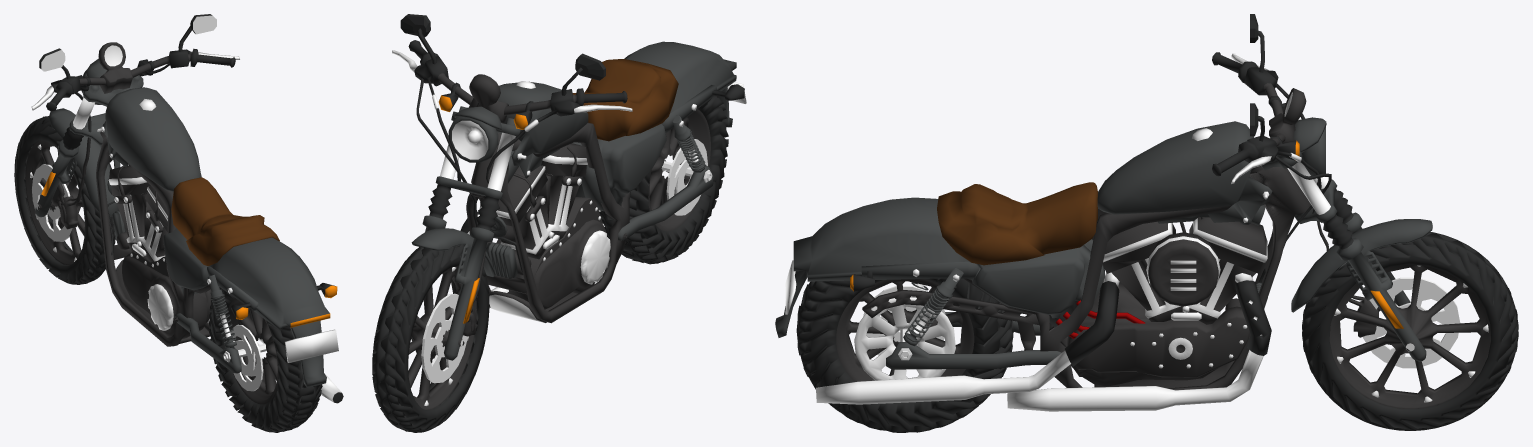
File: harley_davidson_iron_883.glb
3 renders of one model, left to right at view 1: azimuth 30°, elevation 25°; view 2: azimuth 150°, elevation 25°; view 3: azimuth 270°, elevation 25°, orthographic. The views are drawn at different scales.
Parts seen in each view (by area): view 1: guardabarros trasero, tanque, neumatico trasero, neumatico delantero, asiento, barras, Cube.002, motor, motor.001, tapas traseras, manubrio, rueda delantera (+11 smaller); view 2: neumatico delantero, barras, Cube.002, motor, motor.001, neumatico trasero, asiento, tapas traseras, manubrio, guardabarros trasero, tanque, rueda delantera (+14 smaller); view 3: mofles, neumatico delantero, motor, tanque, neumatico trasero, asiento, guardabarros trasero, motor.001, Cube.002, barras, rueda delantera, tapas traseras (+11 smaller).
Part boxes in pixels (bbox=[...]): guardabarros trasero: bbox=[209, 237, 330, 387]; tanque: bbox=[97, 87, 201, 191]; neumatico trasero: bbox=[209, 287, 322, 432]; neumatico delantero: bbox=[14, 116, 115, 284]; asiento: bbox=[171, 177, 279, 266]; barras: bbox=[35, 75, 143, 217]; Cube.002: bbox=[96, 121, 210, 346]; motor: bbox=[108, 164, 168, 267]; motor.001: bbox=[116, 232, 211, 338]; tapas traseras: bbox=[163, 228, 337, 319]; manubrio: bbox=[31, 48, 239, 132]; rueda delantera: bbox=[25, 140, 84, 264]; neumatico delantero: bbox=[372, 244, 489, 432]; barras: bbox=[411, 106, 520, 360]; Cube.002: bbox=[466, 122, 630, 323]; motor: bbox=[478, 143, 604, 261]; motor.001: bbox=[487, 197, 610, 309]; neumatico trasero: bbox=[599, 96, 728, 264]; asiento: bbox=[572, 59, 678, 141]; tapas traseras: bbox=[572, 84, 744, 211]; manubrio: bbox=[392, 40, 632, 184]; guardabarros trasero: bbox=[624, 41, 736, 127]; tanque: bbox=[497, 81, 588, 183]; rueda delantera: bbox=[408, 266, 476, 409]; mofles: bbox=[816, 272, 1271, 411]; neumatico delantero: bbox=[1302, 232, 1518, 430]; motor: bbox=[1102, 216, 1267, 368]; tanque: bbox=[1097, 121, 1272, 225]; neumatico trasero: bbox=[796, 278, 1013, 432]; asiento: bbox=[937, 182, 1097, 265]; guardabarros trasero: bbox=[775, 197, 971, 337]; motor.001: bbox=[1067, 281, 1249, 386]; Cube.002: bbox=[964, 166, 1310, 390]; barras: bbox=[1261, 151, 1432, 361]; rueda delantera: bbox=[1329, 264, 1490, 408]; tapas traseras: bbox=[850, 239, 1104, 327].
Bounding box in the file's own units: 3.85 × 5.16 × 9.48.
